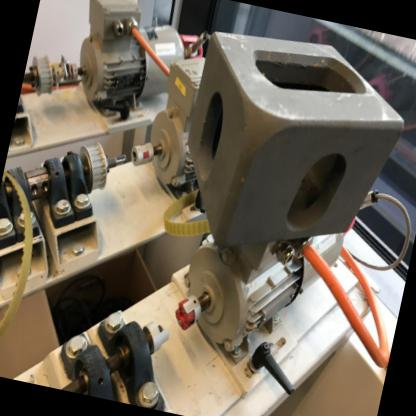CornerCasting: (163, 15, 415, 283)
